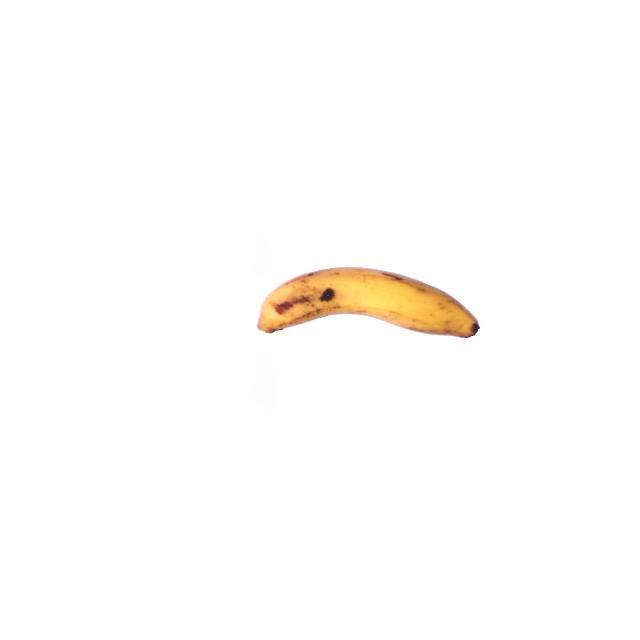Banana: (254, 264, 482, 342)
